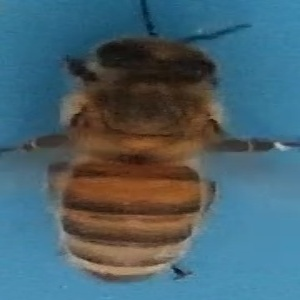bee: (18, 1, 285, 288)
